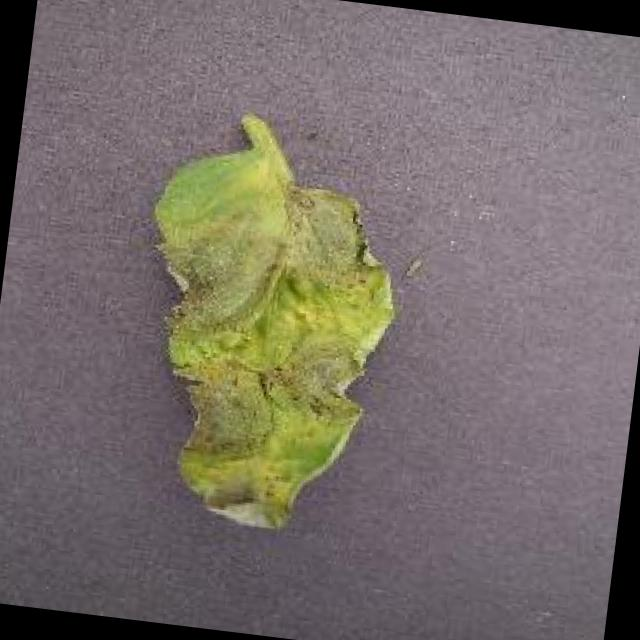Tomato_Late_Blight: (106, 105, 433, 545)
